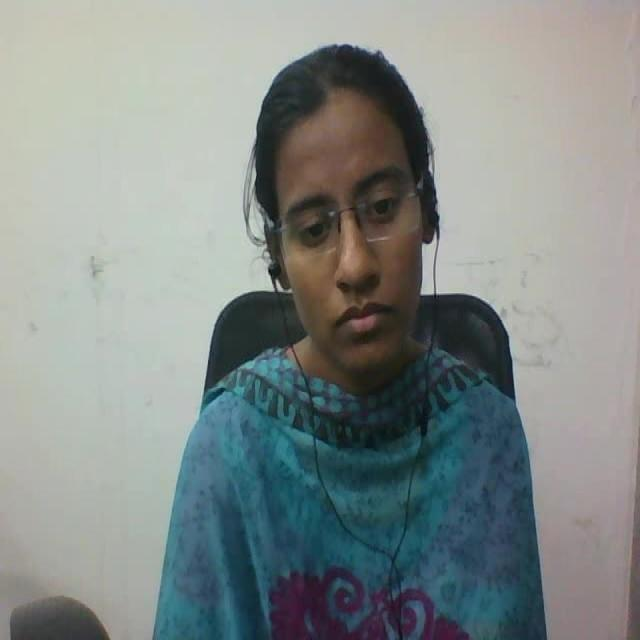Engaged: (210, 35, 488, 414)
